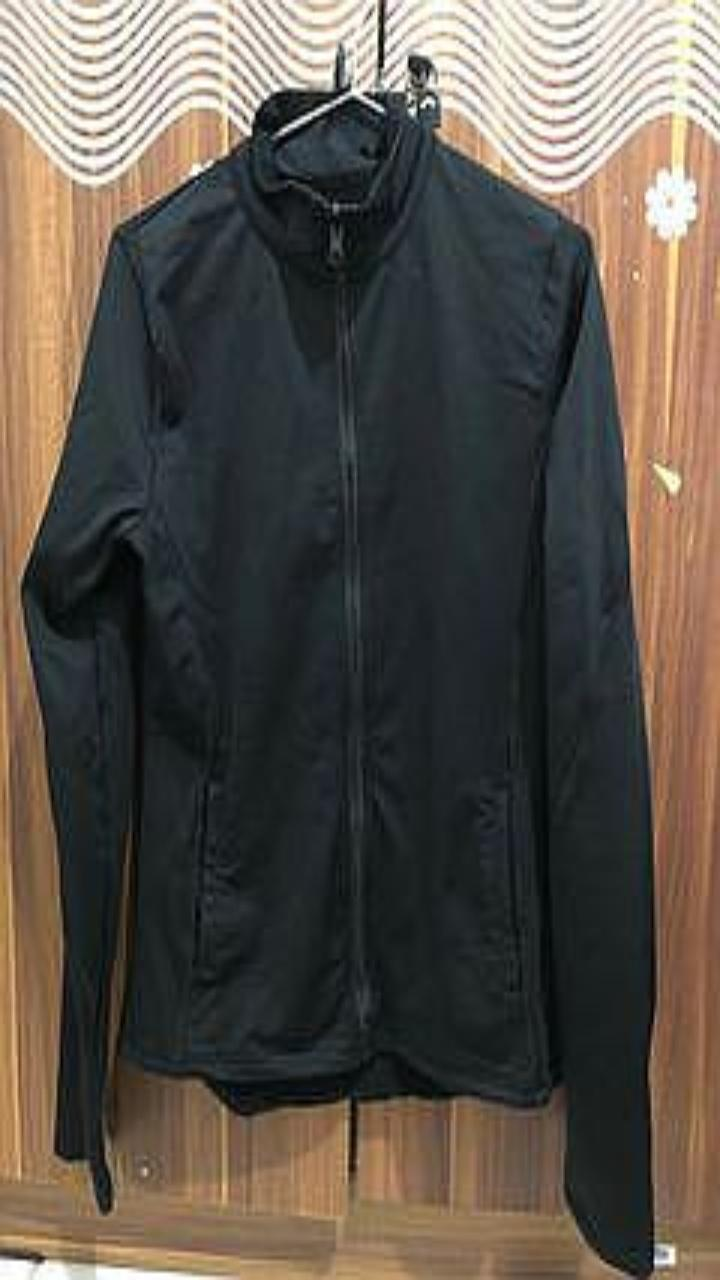Sports_Jacket: (21, 87, 655, 1276)
